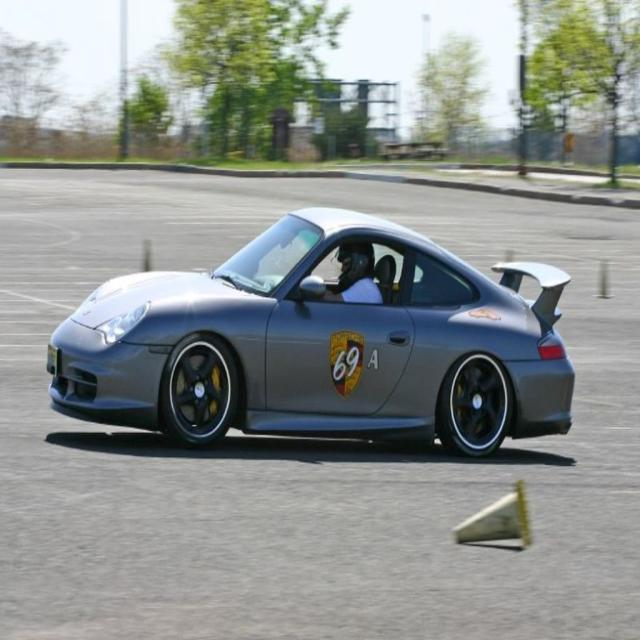Car: (46, 206, 576, 458)
